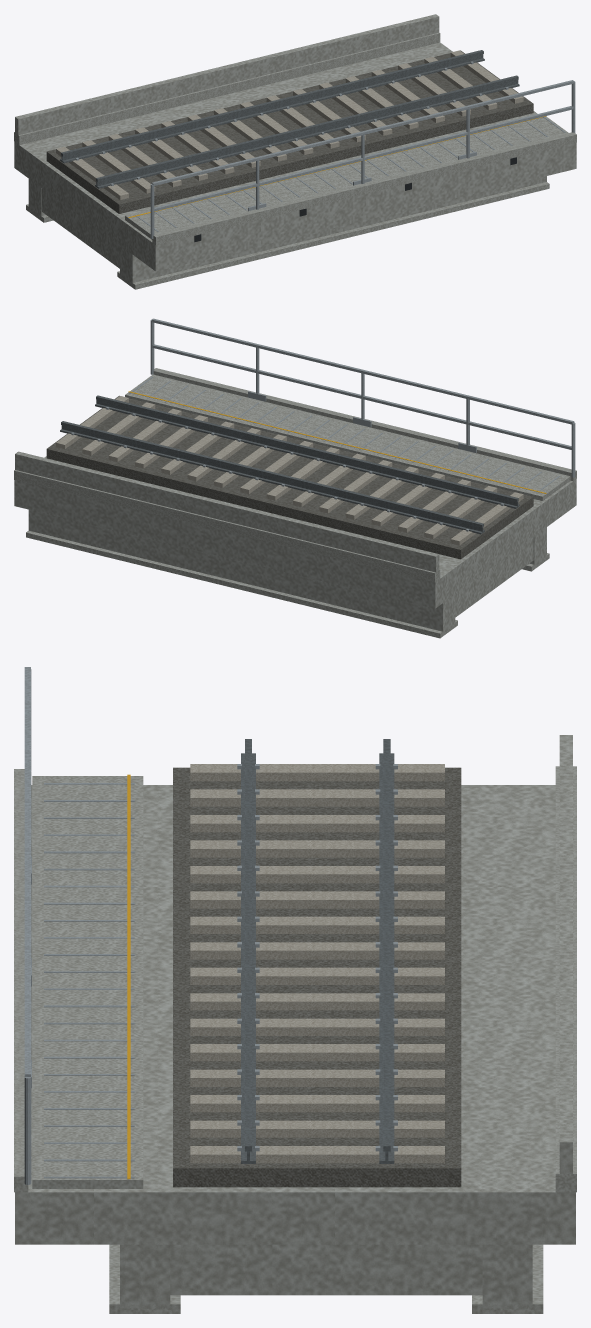
File: PZ_01_RailDeck_10m_Clean.glb
3 views of the same model, one above another, from view 1: azimuth 30°, elevation 25°; view 2: azimuth 150°, elevation 25°; view 3: azimuth 270°, elevation 25° (orthographic). The views are drawn at different scales.
Parts seen in each view (by area): view 1: STR_DeckSlab, TRACK_BallastBedding, WALK_ServiceSlab, SAFETY_FarSideParapet, STR_RightWalkCurb, STR_LeftEdgeCurbstone, STR_GirderFoot_Near, STR_PrimaryGirder_Near, TRACK_RailHead_R, TRACK_RailHead_L, TRACK_RailWeb_R, TRACK_RailWeb_L (+23 smaller); view 2: TRACK_BallastBedding, STR_DeckSlab, WALK_ServiceSlab, STR_PrimaryGirder_Far, SAFETY_FarSideParapet, STR_LeftEdgeCurbstone, STR_GirderFoot_Far, STR_RightWalkCurb, TRACK_RailHead_L, TRACK_RailHead_R, TRACK_RailWeb_R, TRACK_RailWeb_L (+23 smaller); view 3: STR_DeckSlab, TRACK_BallastBedding, WALK_ServiceSlab, STR_CrossDiaphragm_01, SAFETY_FarSideParapet, STR_RightWalkCurb, STR_LeftEdgeCurbstone, TRACK_RailBase_L, TRACK_Sleeper_00, TRACK_Sleeper_01, TRACK_Sleeper_02, TRACK_Sleeper_03 (+22 smaller).
Boxes of the visible parts, <box> form: STR_DeckSlab: <box>14,42,576,271</box>; TRACK_BallastBedding: <box>46,50,533,213</box>; WALK_ServiceSlab: <box>125,116,568,239</box>; SAFETY_FarSideParapet: <box>15,14,439,136</box>; STR_RightWalkCurb: <box>152,132,576,244</box>; STR_LeftEdgeCurbstone: <box>14,32,440,144</box>; STR_GirderFoot_Near: <box>117,182,549,289</box>; STR_PrimaryGirder_Near: <box>120,176,546,284</box>; TRACK_RailHead_R: <box>96,75,518,181</box>; TRACK_RailHead_L: <box>61,50,483,156</box>; TRACK_RailWeb_R: <box>96,79,518,186</box>; TRACK_RailWeb_L: <box>61,54,483,160</box>; TRACK_BallastBedding: <box>46,395,533,559</box>; STR_DeckSlab: <box>14,456,576,608</box>; WALK_ServiceSlab: <box>125,374,570,500</box>; STR_PrimaryGirder_Far: <box>28,509,455,633</box>; SAFETY_FarSideParapet: <box>15,451,439,574</box>; STR_LeftEdgeCurbstone: <box>14,470,440,582</box>; STR_GirderFoot_Far: <box>26,530,457,638</box>; STR_RightWalkCurb: <box>153,368,576,481</box>; TRACK_RailHead_L: <box>61,421,483,527</box>; TRACK_RailHead_R: <box>96,395,518,501</box>; TRACK_RailWeb_R: <box>96,399,518,506</box>; TRACK_RailWeb_L: <box>61,425,483,531</box>; STR_DeckSlab: <box>15,785,575,1244</box>; TRACK_BallastBedding: <box>173,767,461,1187</box>; WALK_ServiceSlab: <box>32,776,143,1188</box>; STR_CrossDiaphragm_01: <box>170,1244,482,1295</box>; SAFETY_FarSideParapet: <box>559,735,572,1175</box>; STR_RightWalkCurb: <box>14,769,28,1192</box>; STR_LeftEdgeCurbstone: <box>555,766,576,1192</box>; TRACK_RailBase_L: <box>379,753,394,1163</box>; TRACK_Sleeper_00: <box>190,764,444,781</box>; TRACK_Sleeper_01: <box>190,789,444,806</box>; TRACK_Sleeper_02: <box>190,815,444,832</box>; TRACK_Sleeper_03: <box>190,840,444,857</box>.
Bounding box in the file's own units: 10.07 × 2.78 × 5.84.
Materials: 8 (8 with a texture image).
